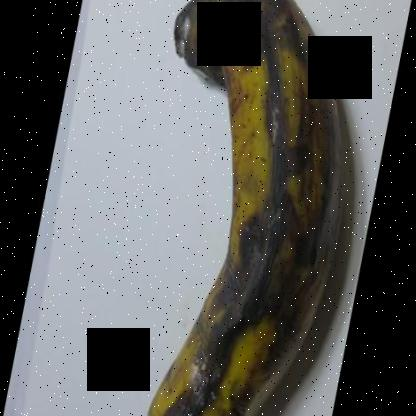overripe: (122, 0, 360, 415)
rotten: (155, 2, 219, 74)
